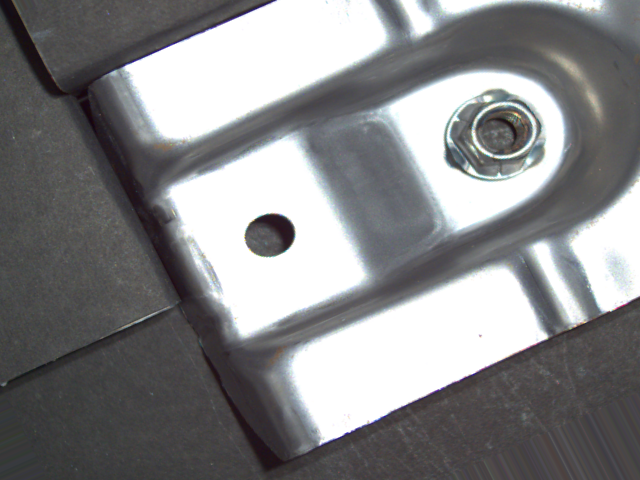good: (441, 84, 551, 181)
